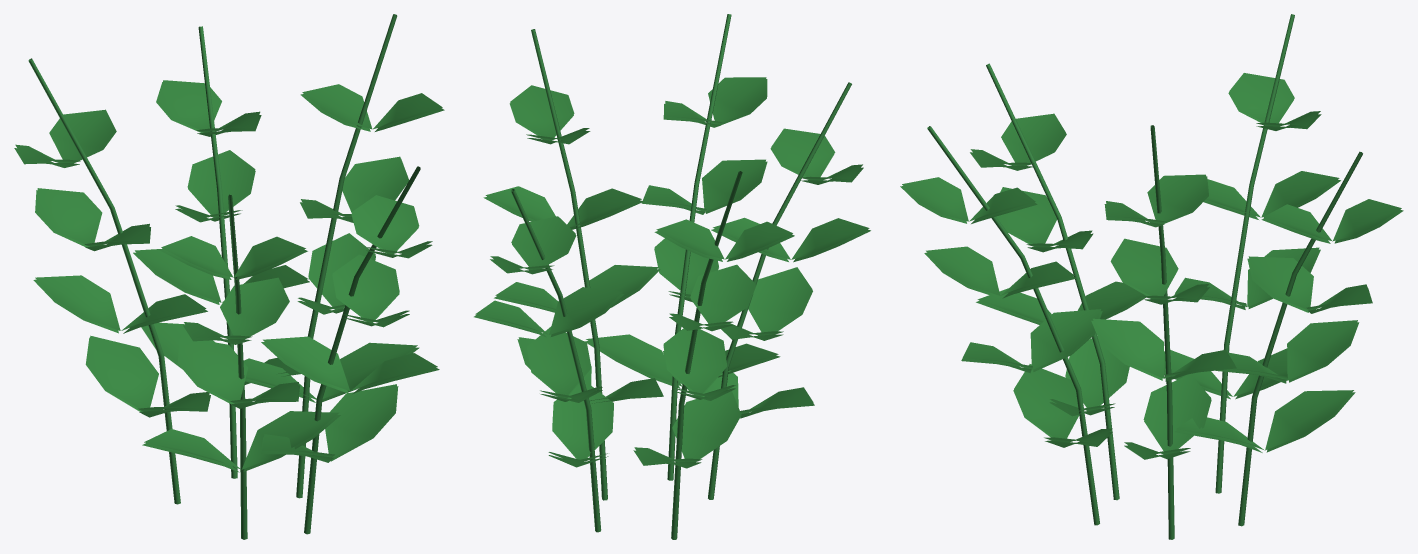
Rendered from ing_nettle.gltf.
3 renders of one model, left to right at view 1: azimuth 30°, elevation 25°; view 2: azimuth 150°, elevation 25°; view 3: azimuth 270°, elevation 25°, orthographic. The views are drawn at different scales.
Parts seen in each view (by area): view 1: ing_nettle; view 2: ing_nettle; view 3: ing_nettle.
Part boxes in pixels (left/top/right/bottom): ing_nettle: left=14, top=14, right=444, bottom=539; ing_nettle: left=474, top=14, right=870, bottom=539; ing_nettle: left=900, top=14, right=1403, bottom=539.
Size of what is drawn, in the model's own units: 0.3585 by 0.4549 by 0.4581.
